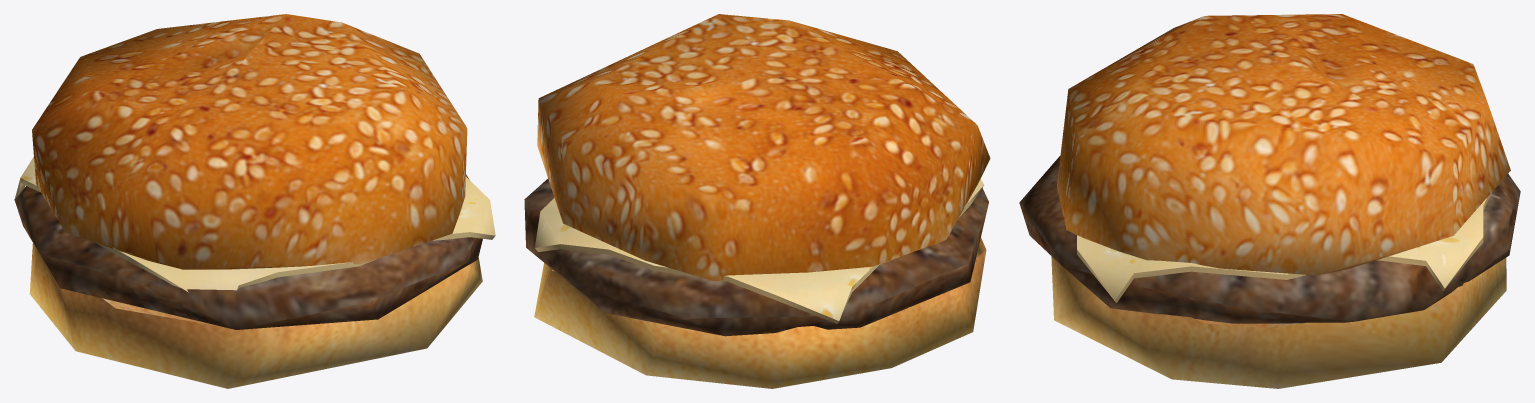
The model's file is burger_cheeseeburger.fbx.
3 views of the same model, side by side, from view 1: azimuth 30°, elevation 25°; view 2: azimuth 150°, elevation 25°; view 3: azimuth 270°, elevation 25° (orthographic). The views are drawn at different scales.
Parts seen in each view (by area): view 1: burger_bun_01_LOD00, burger_bun_04_LOD00, chopped_steak__LOD00, cheese_LOD00; view 2: burger_bun_01_LOD00, burger_bun_04_LOD00, chopped_steak__LOD00, cheese_LOD00; view 3: burger_bun_01_LOD00, burger_bun_04_LOD00, chopped_steak__LOD00, cheese_LOD00.
Boxes of the visible parts, <box> form: burger_bun_01_LOD00: <box>32,14,467,269</box>; burger_bun_04_LOD00: <box>29,243,482,388</box>; chopped_steak__LOD00: <box>14,174,482,329</box>; cheese_LOD00: <box>15,156,495,292</box>; burger_bun_01_LOD00: <box>537,14,990,280</box>; burger_bun_04_LOD00: <box>534,237,986,388</box>; chopped_steak__LOD00: <box>524,179,988,336</box>; cheese_LOD00: <box>535,179,984,323</box>; burger_bun_01_LOD00: <box>1057,14,1510,275</box>; burger_bun_04_LOD00: <box>1051,256,1506,388</box>; chopped_steak__LOD00: <box>1019,156,1520,323</box>; cheese_LOD00: <box>1077,192,1491,302</box>.
Bounding box in the file's own units: 14.41 × 7.43 × 14.71.
